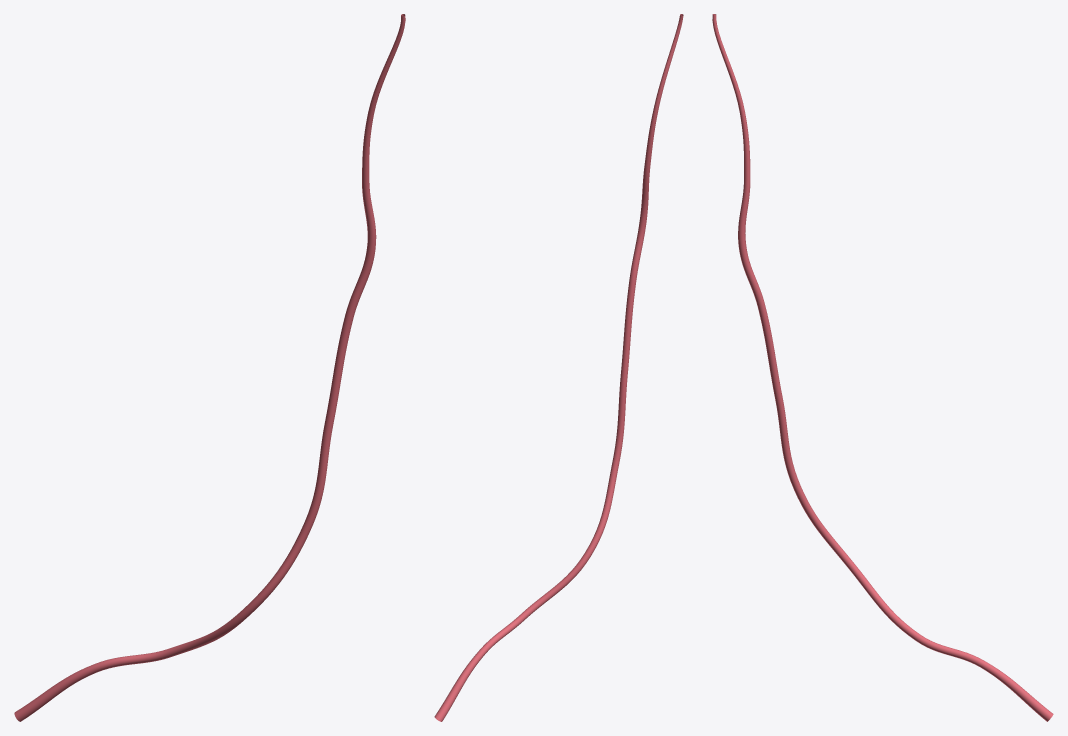
The picture shows the model from 3 angles, left to right: view 1: azimuth 90°, elevation 25°; view 2: azimuth 150°, elevation 25°; view 3: azimuth 270°, elevation 25°; orthographic projection. The views are drawn at different scales.
Visible parts, largest first — view 1: ZA_f3176109facd8bb7; view 2: ZA_f3176109facd8bb7; view 3: ZA_f3176109facd8bb7.
Boxes of the visible parts, x1=… form: ZA_f3176109facd8bb7: x1=14, y1=14, x2=405, y2=721; ZA_f3176109facd8bb7: x1=434, y1=14, x2=683, y2=721; ZA_f3176109facd8bb7: x1=712, y1=14, x2=1053, y2=721.
Size of the model in its own units: 0.0296 by 0.1875 by 0.0876.
